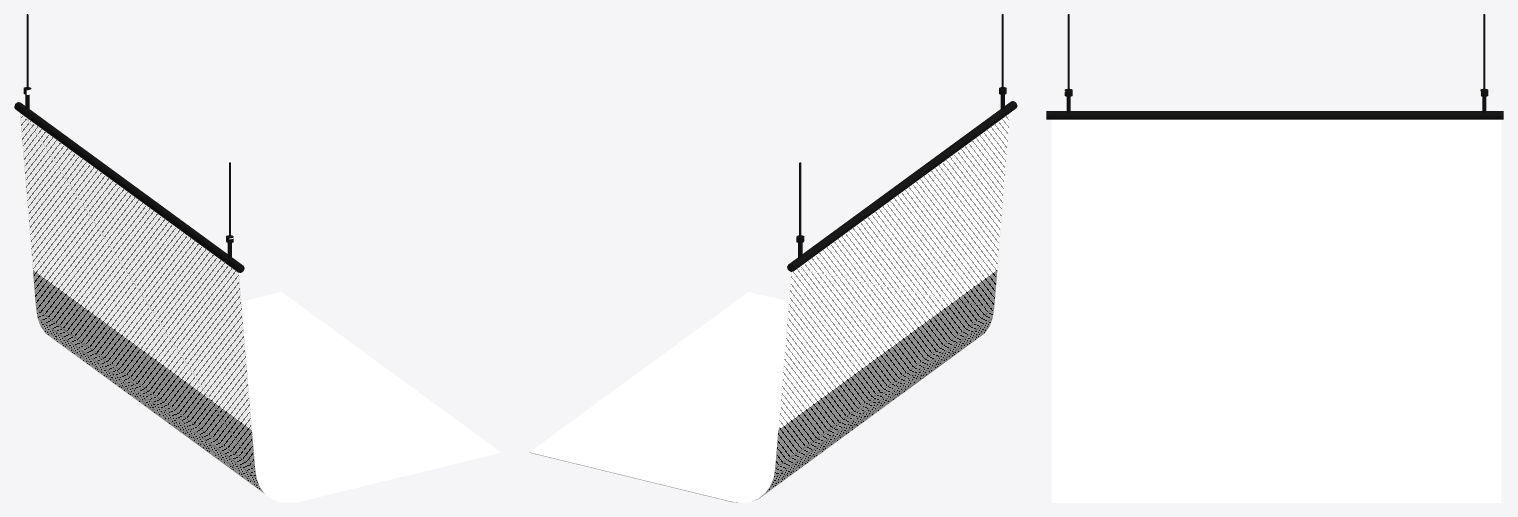
The model's file is whitescreen.glb.
3 views of the same model, side by side, from view 1: azimuth 30°, elevation 25°; view 2: azimuth 150°, elevation 25°; view 3: azimuth 270°, elevation 25° (orthographic). The views are drawn at different scales.
Parts seen in each view (by area): view 1: Screen 1; view 2: Screen 1; view 3: Screen 1.
Boxes of the visible parts, x1=… form: Screen 1: x1=14, y1=14, x2=500, y2=502; Screen 1: x1=529, y1=14, x2=1017, y2=502; Screen 1: x1=1046, y1=14, x2=1503, y2=502.
Bounding box in the file's own units: 5.95 × 7.43 × 8.62.
1 material, 1 textured.
